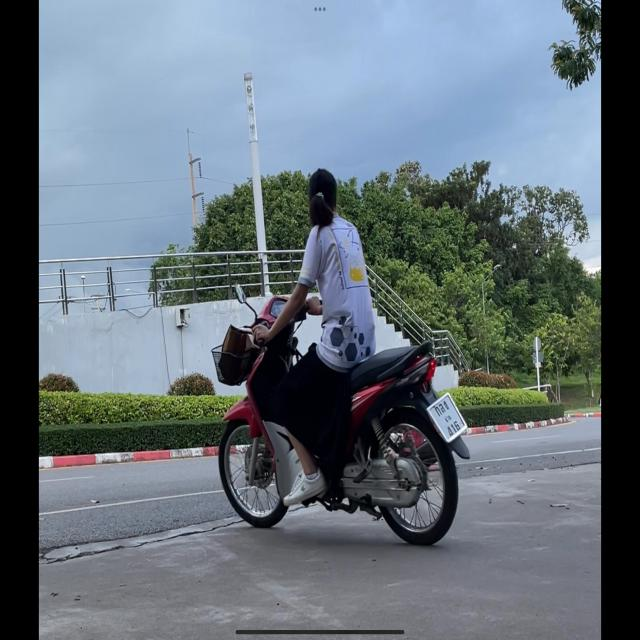seatbelt: (306, 166, 340, 226)
